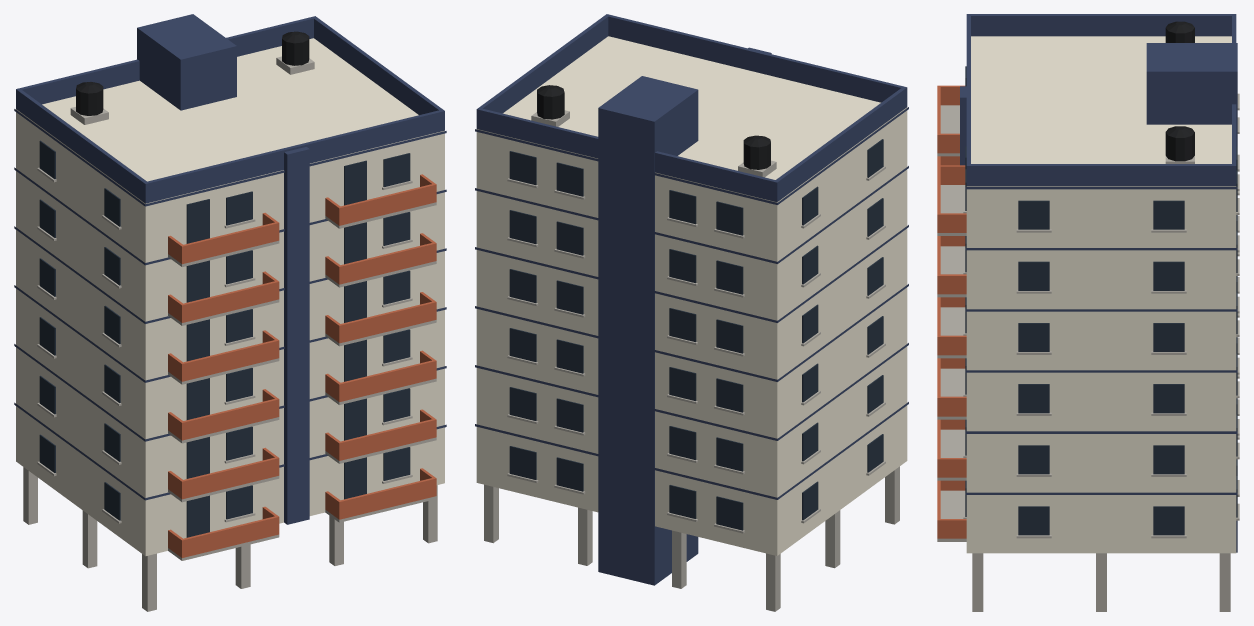
Rendered from bld_apartment_01.glb.
3 views of the same model, side by side, from view 1: azimuth 30°, elevation 25°; view 2: azimuth 150°, elevation 25°; view 3: azimuth 270°, elevation 25° (orthographic). The views are drawn at different scales.
Visible parts, largest first — view 1: bld_apartment_01; view 2: bld_apartment_01; view 3: bld_apartment_01.
Boxes of the visible parts, bbox=[...] form: bld_apartment_01: bbox=[14, 14, 446, 611]; bld_apartment_01: bbox=[475, 14, 908, 611]; bld_apartment_01: bbox=[937, 14, 1239, 611].
Size of what is drawn, in the model's own units: 16.28 by 23.6 by 13.44.
